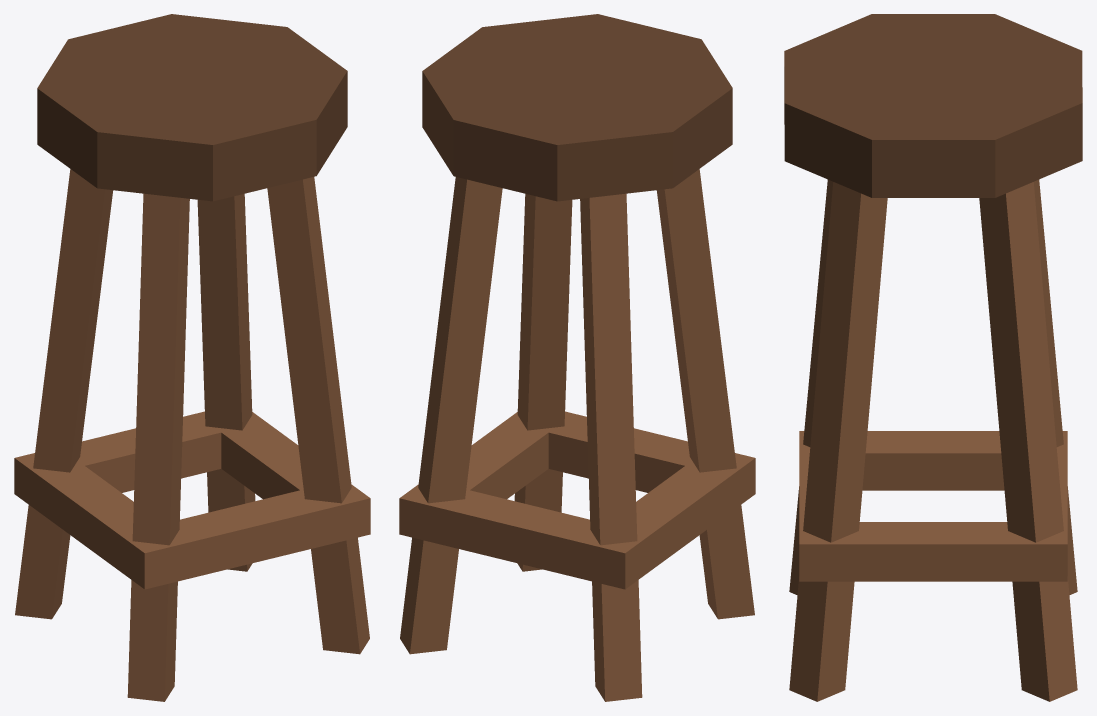
Rendered from stool.fbx.
3 renders of one model, left to right at view 1: azimuth 30°, elevation 25°; view 2: azimuth 150°, elevation 25°; view 3: azimuth 270°, elevation 25°, orthographic. The views are drawn at different scales.
Visible parts, largest first — view 1: stool; view 2: stool; view 3: stool.
Boxes of the visible parts, x1,y1,x2,y2 form: stool: [14, 14, 370, 701]; stool: [399, 14, 755, 701]; stool: [784, 14, 1082, 701].
Size of the model in its own units: 63.09 by 132 by 63.09.
